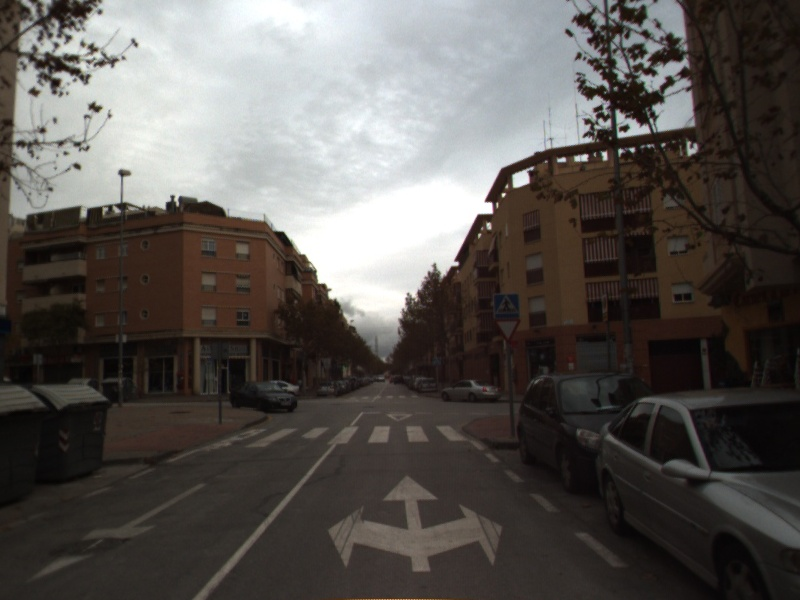STRAIGHT_LEFT_RIGHT: (325, 473, 505, 575)
